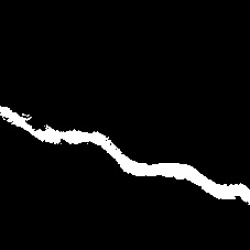crack: (2, 107, 249, 201)
